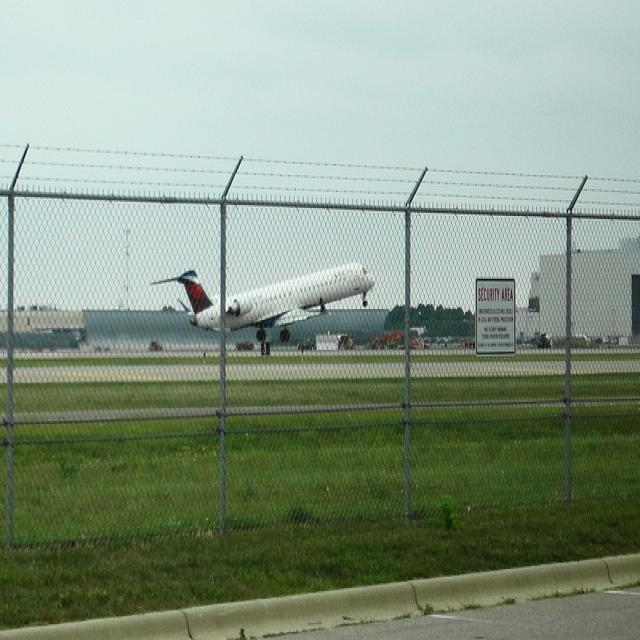airplane: (147, 257, 377, 343)
